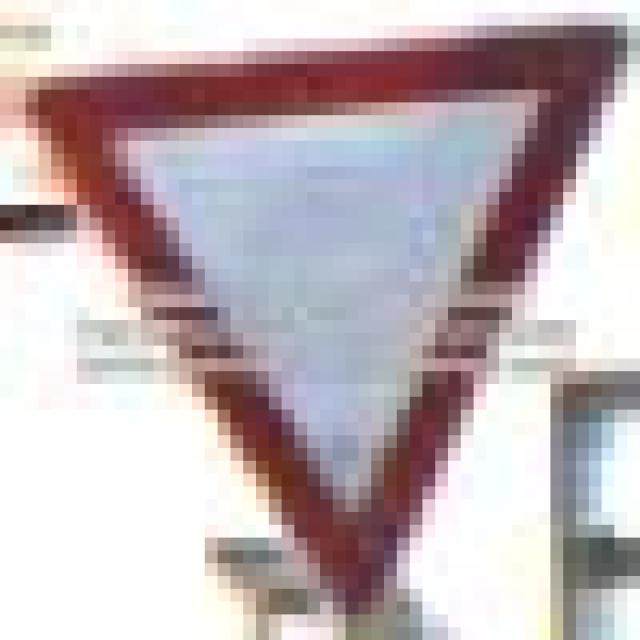gap_in_median: (0, 25, 614, 601)
